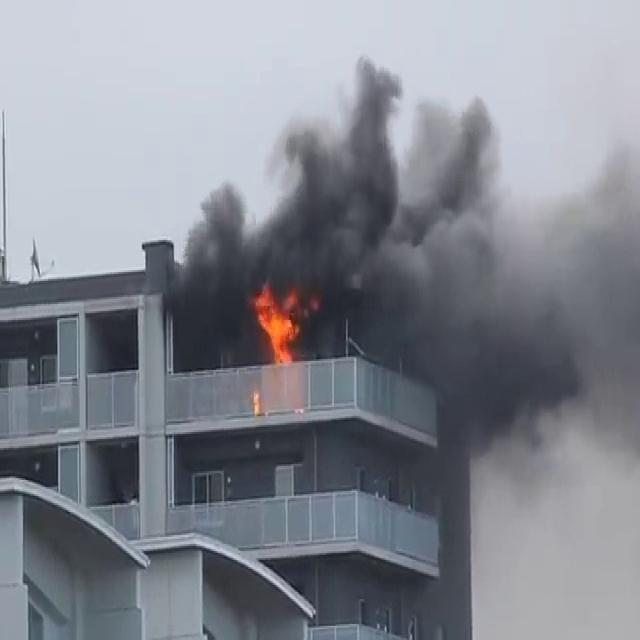Fire: (248, 280, 306, 366)
Smoke: (146, 43, 640, 393)
